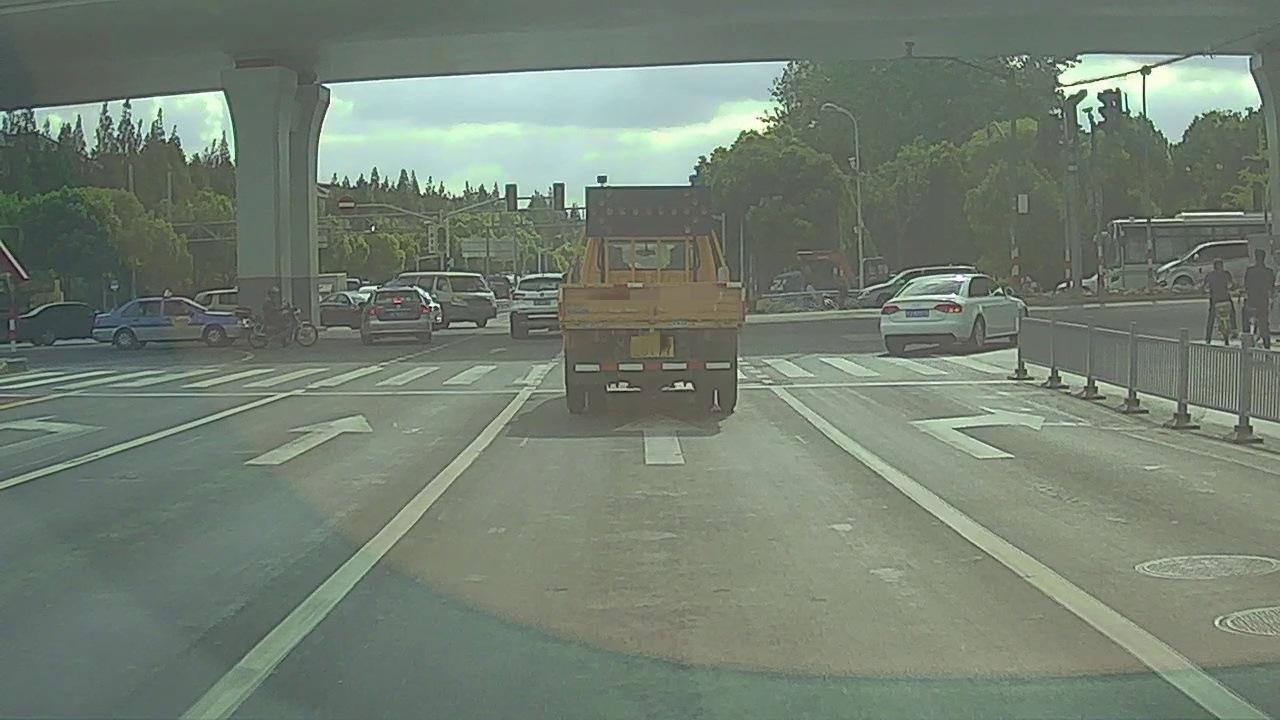traffic_light: (506, 184, 518, 212), (554, 183, 566, 210)
